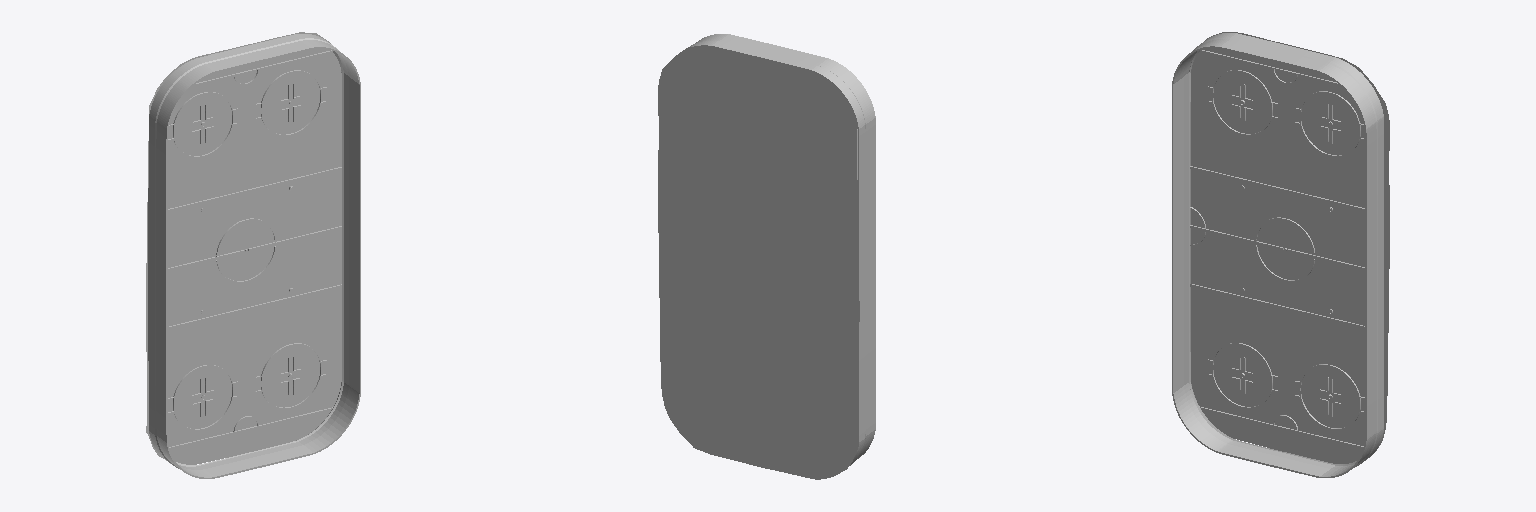
File: hokeyTable.obj
3 renders of one model, left to right at view 1: azimuth 30°, elevation 25°; view 2: azimuth 150°, elevation 25°; view 3: azimuth 330°, elevation 25°, orthographic.
Visible parts, largest first — view 1: hockeyTable.001; view 2: hockeyTable.001; view 3: hockeyTable.001.
Part boxes in pixels (x1,y1,x2,y2): hockeyTable.001: (146,32,360,478); hockeyTable.001: (658,34,875,479); hockeyTable.001: (1172,32,1389,477).
Bounding box in the file's own units: 67.34 × 131 × 10.65.